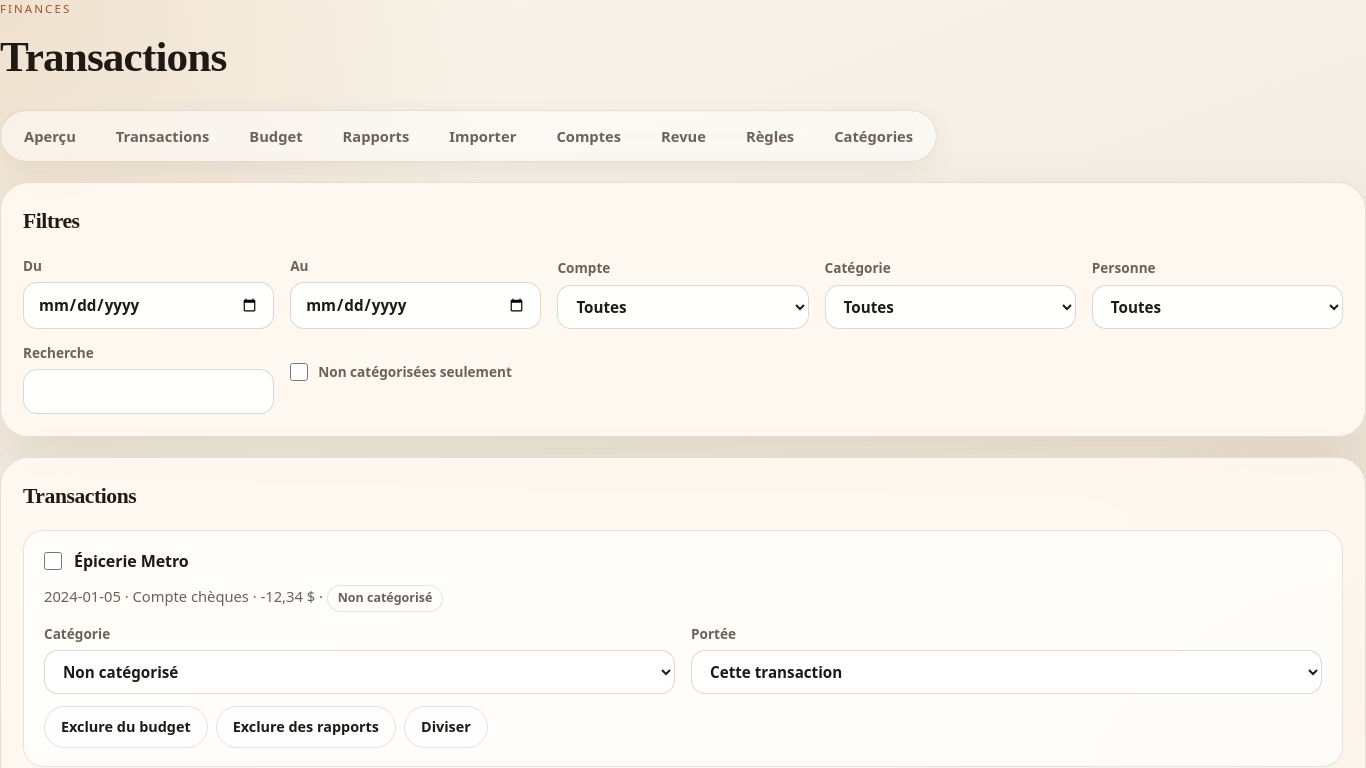
it: FinanceTransactionsPage › invoice split assistant › explains how to enable it instead of offering an upload while AI is off
Click the button "Diviser" at [446, 727], box [404, 706, 488, 748]
(page scrolled)
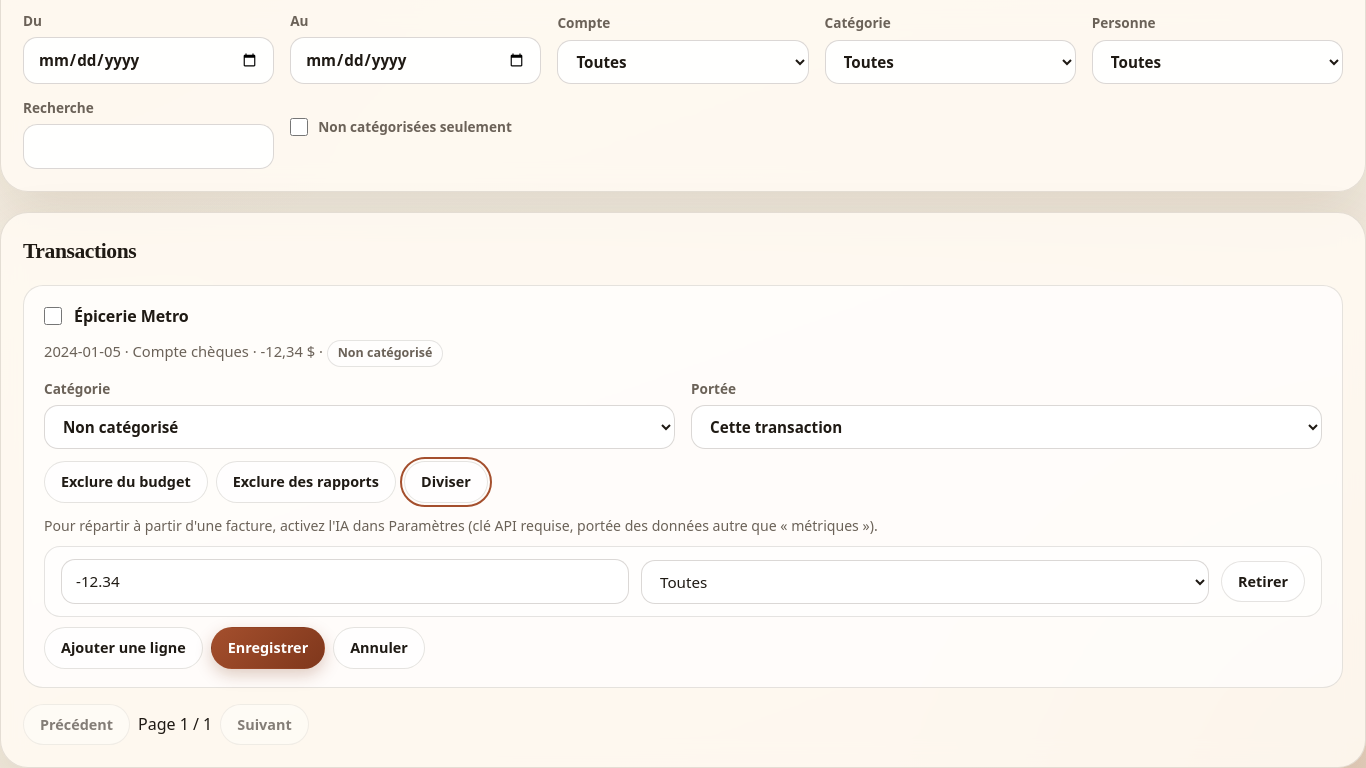
Now the text "activez l'IA dans Paramètres" is shown, box [44, 516, 878, 535]
